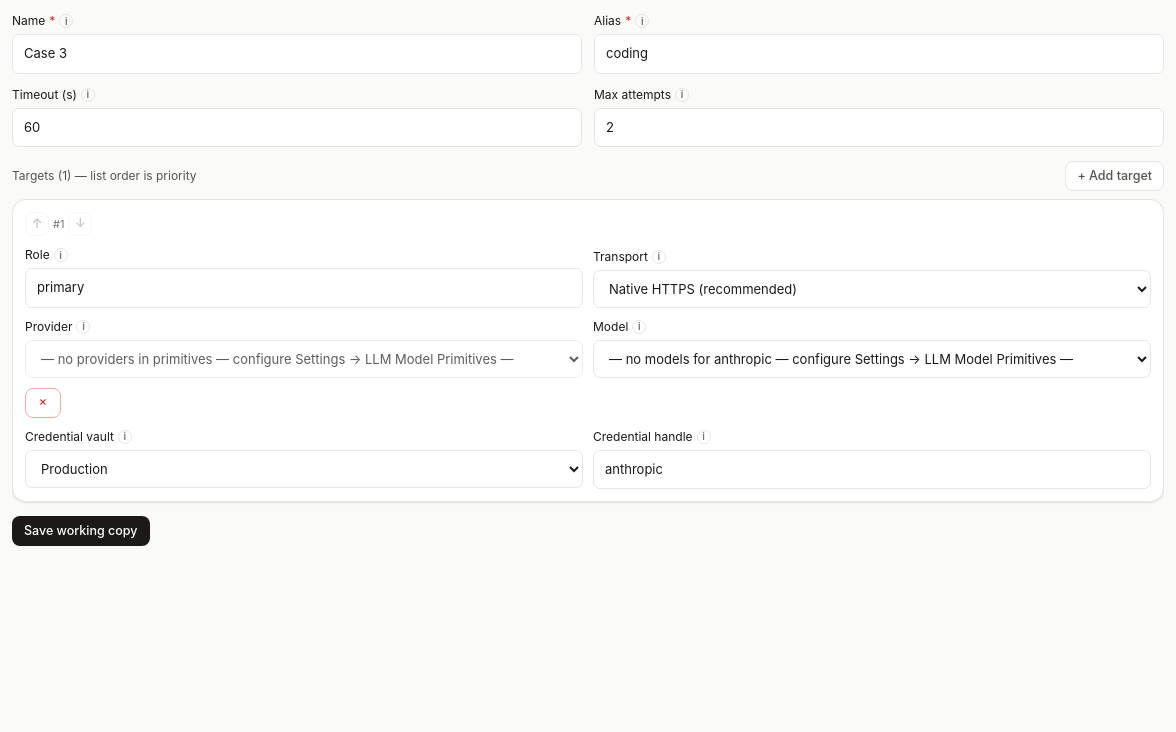
validates Timeout (s) against the API limits
Replace the text in the number field labelled "Timeout (s)" with "601". click: point(297, 127)
box: [12, 108, 582, 147]
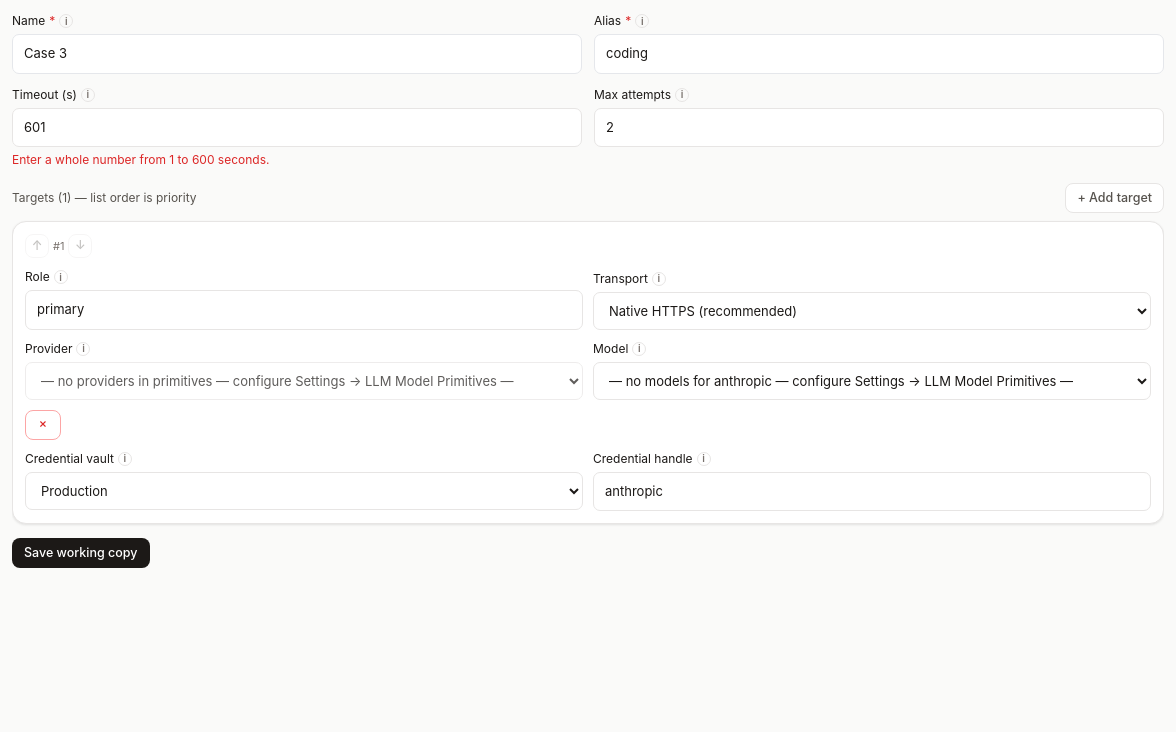
Expected: the button "Save working copy" is disabled, [12, 538, 150, 568]
Replace the text in the number field labelled "Timeout (s)" with "2". click: point(297, 127)
box: [12, 108, 582, 147]
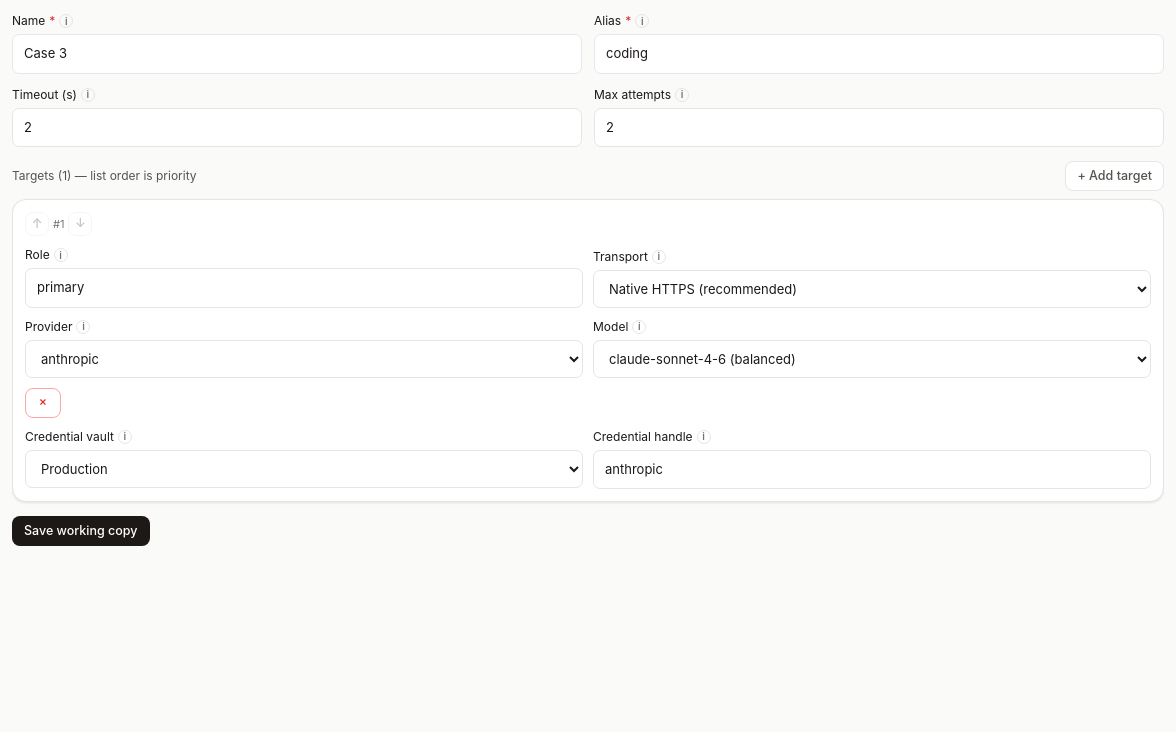
Expected: the button "Save working copy" is enabled, [12, 516, 150, 546]
